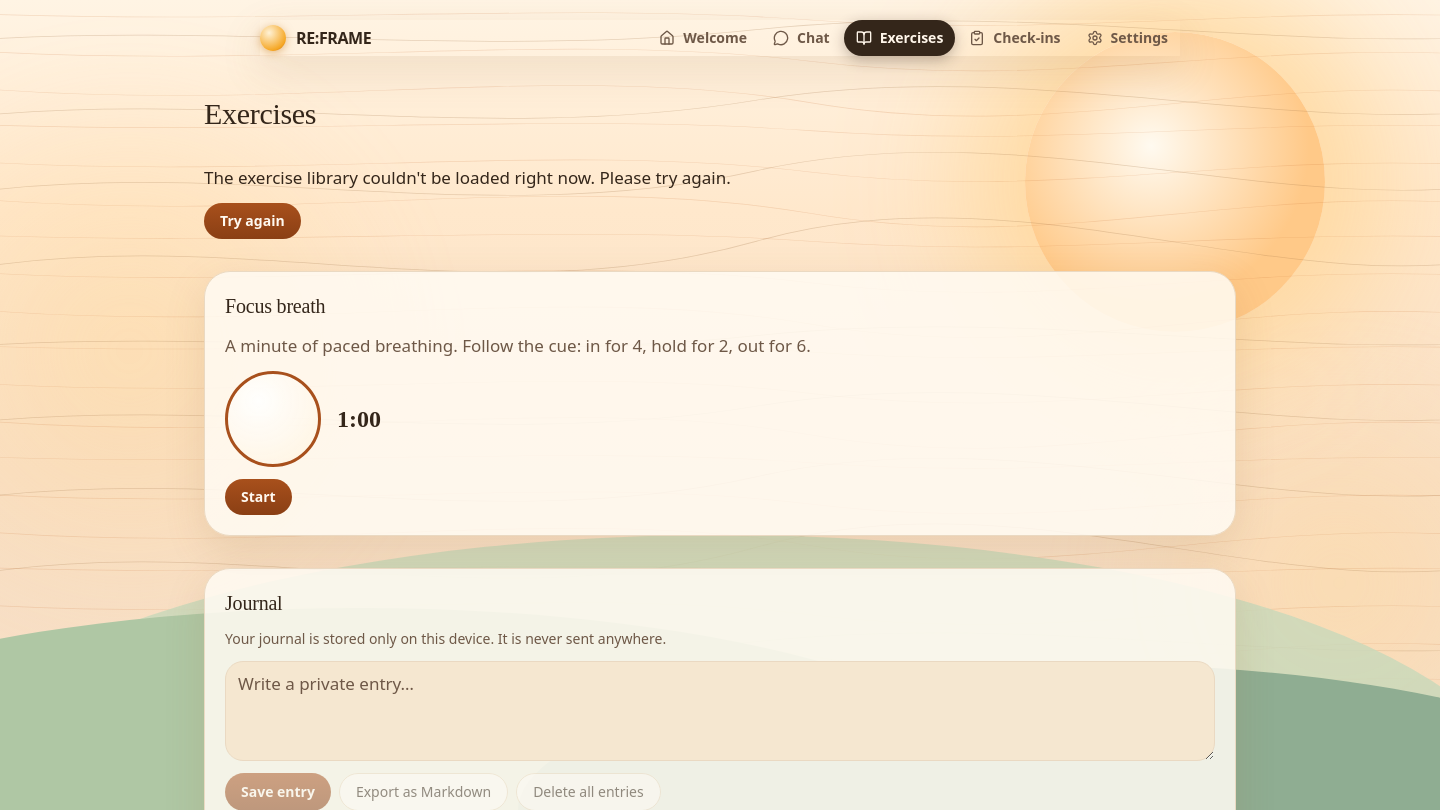
Test: AppShell › renders the Check-ins page with its heading
What coordinates should you click on to do the following:
click the link "Check-ins"
I would click on:
 (1015, 38)
Its box is [969,28,1061,47].
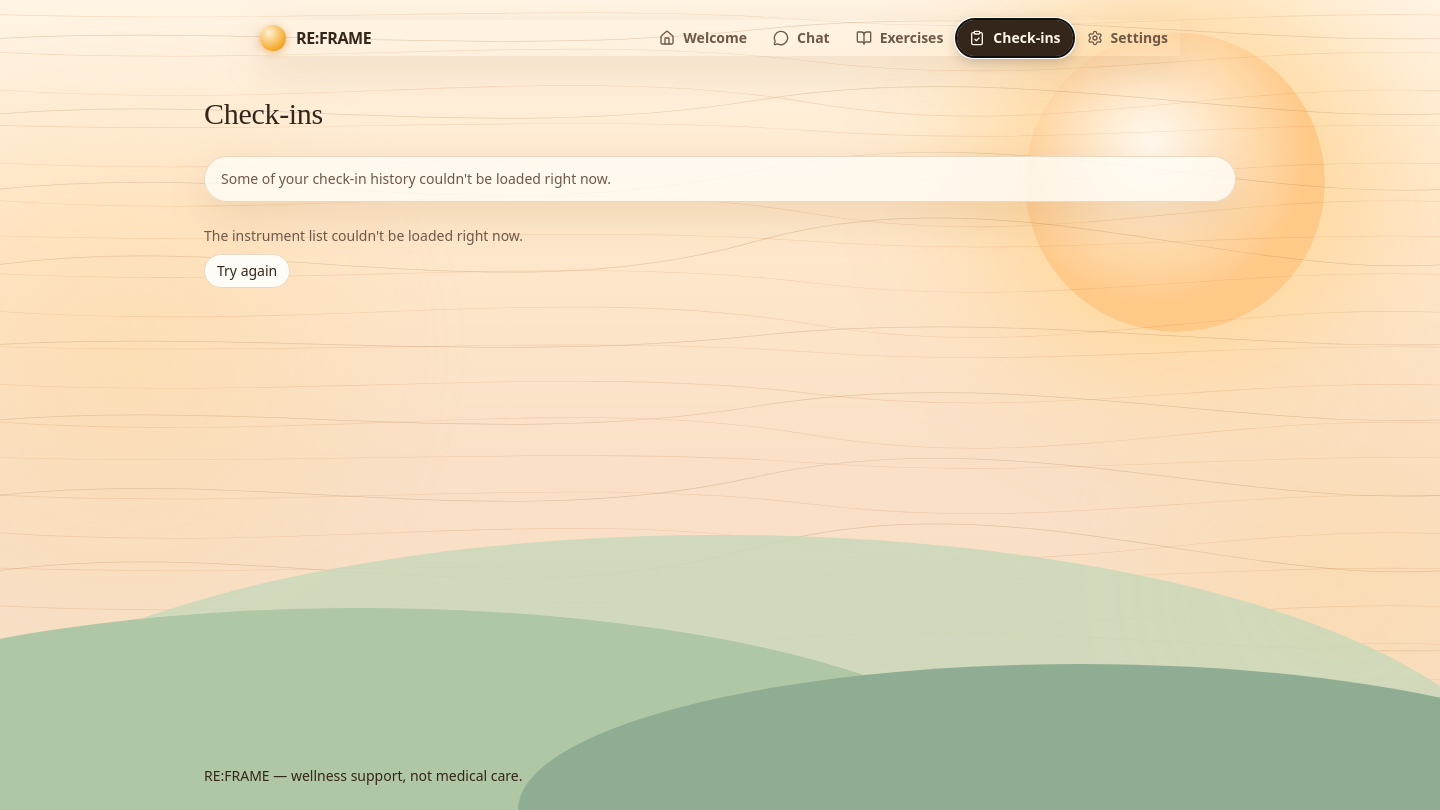
Expected: the heading "Check-ins" is shown, [204,97,323,130]
